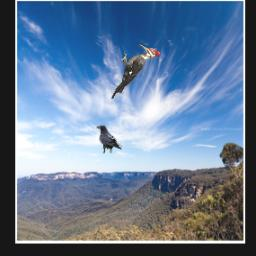Crow: (97, 125, 123, 153)
Woodpecker: (111, 43, 160, 100)
